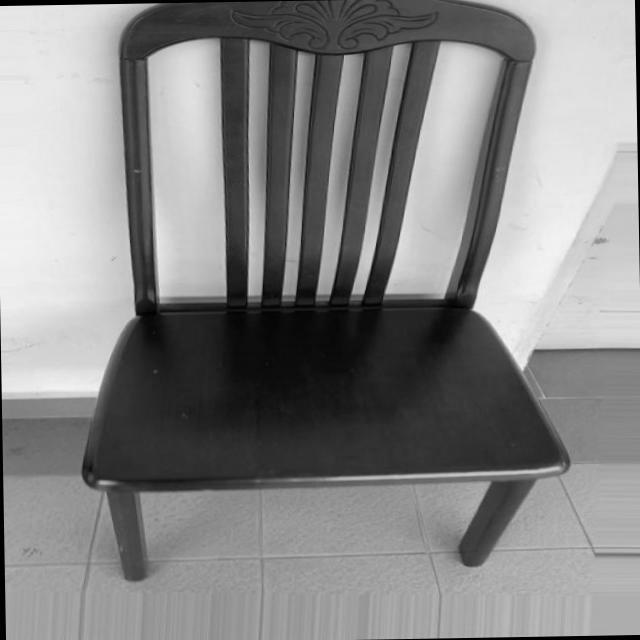chair: (63, 0, 577, 581)
